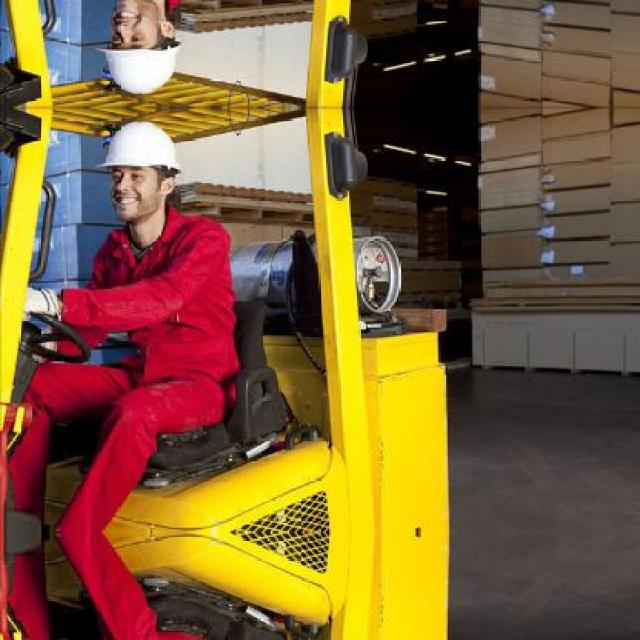helmet: (97, 44, 180, 99), (102, 120, 182, 170)
